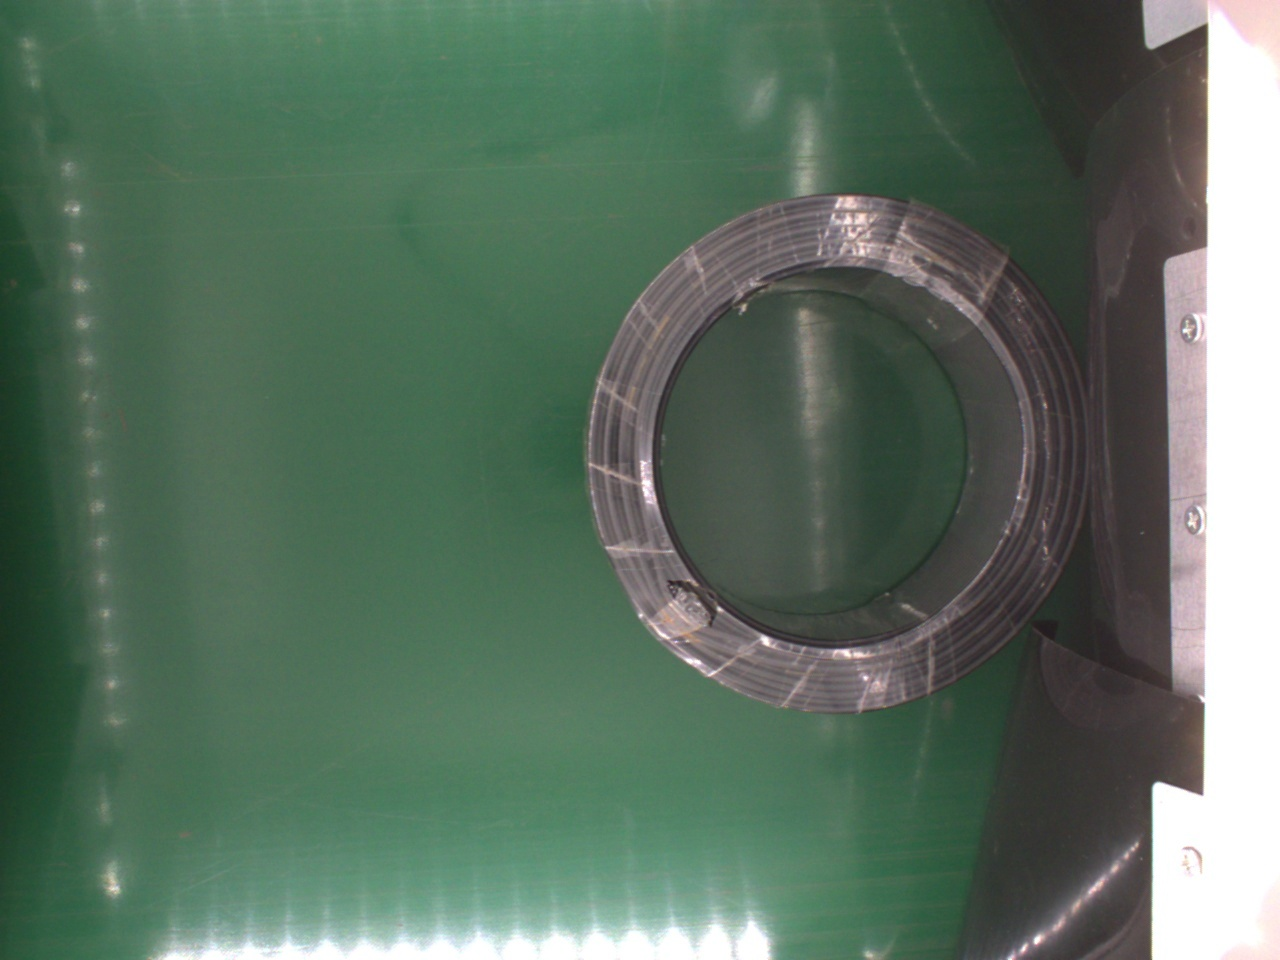black: (577, 191, 1089, 717)
